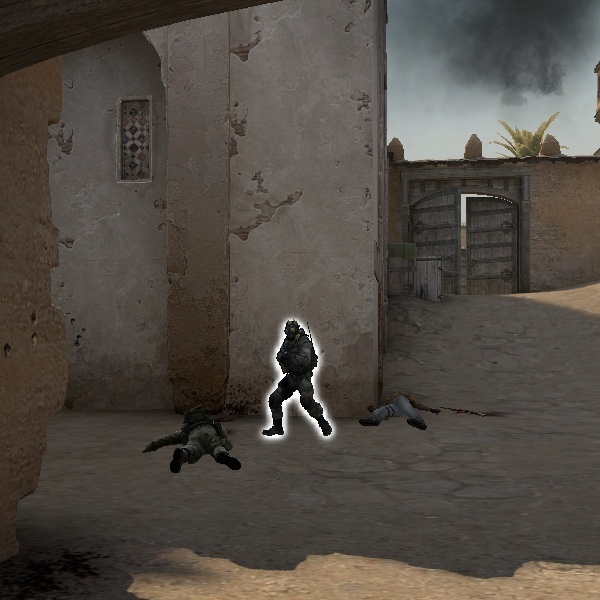ct_body: (260, 317, 328, 440)
